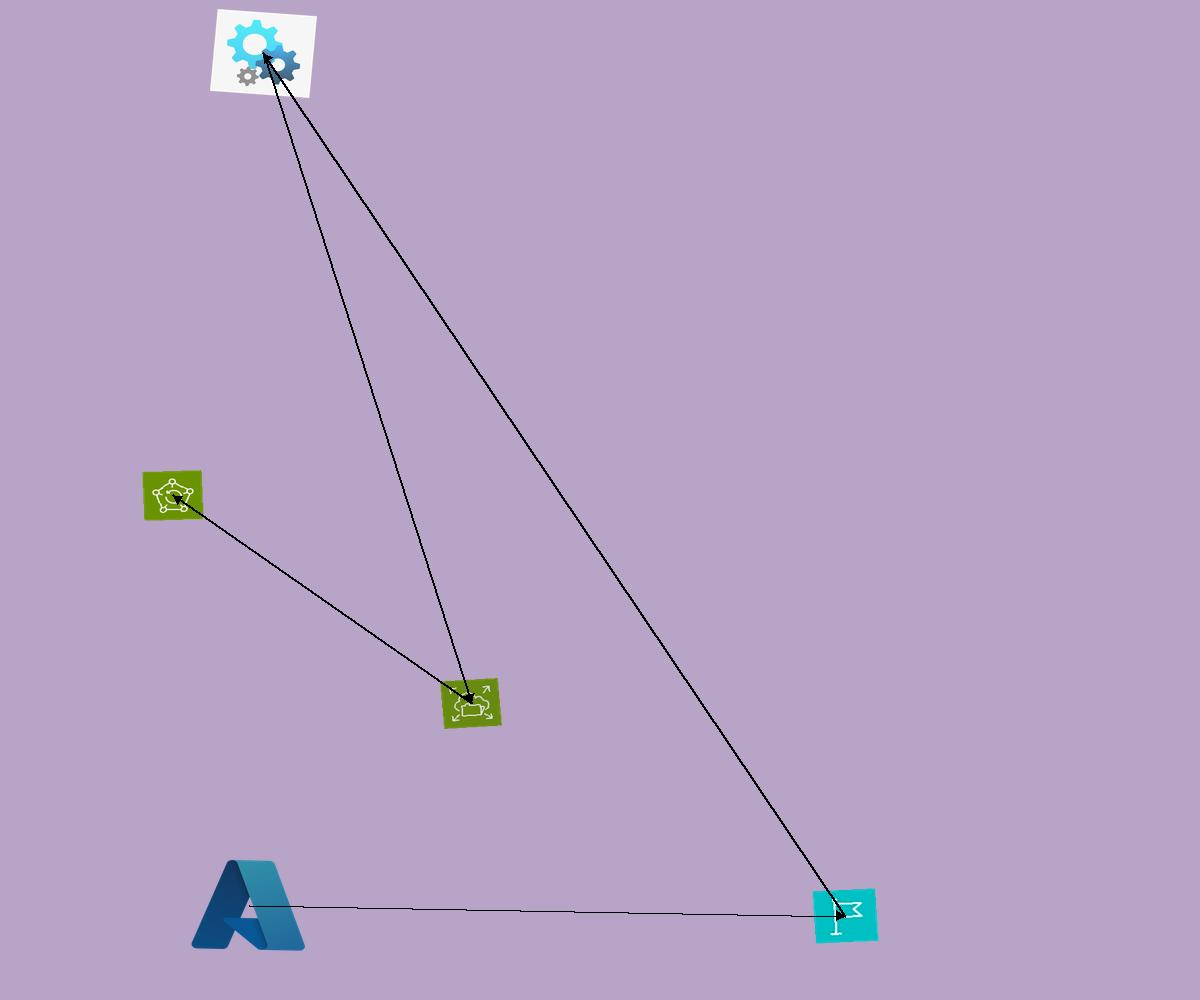AWS-Backup: (142, 470, 204, 521)
AWS-EFS: (440, 678, 502, 729)
AWS-Region: (812, 888, 879, 944)
Azure_api: (210, 9, 317, 98)
Azure_services: (186, 852, 313, 958)
